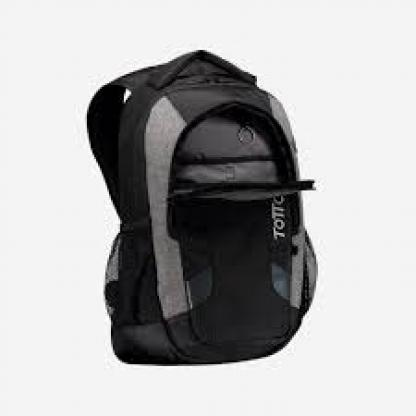morral: (66, 39, 338, 377)
